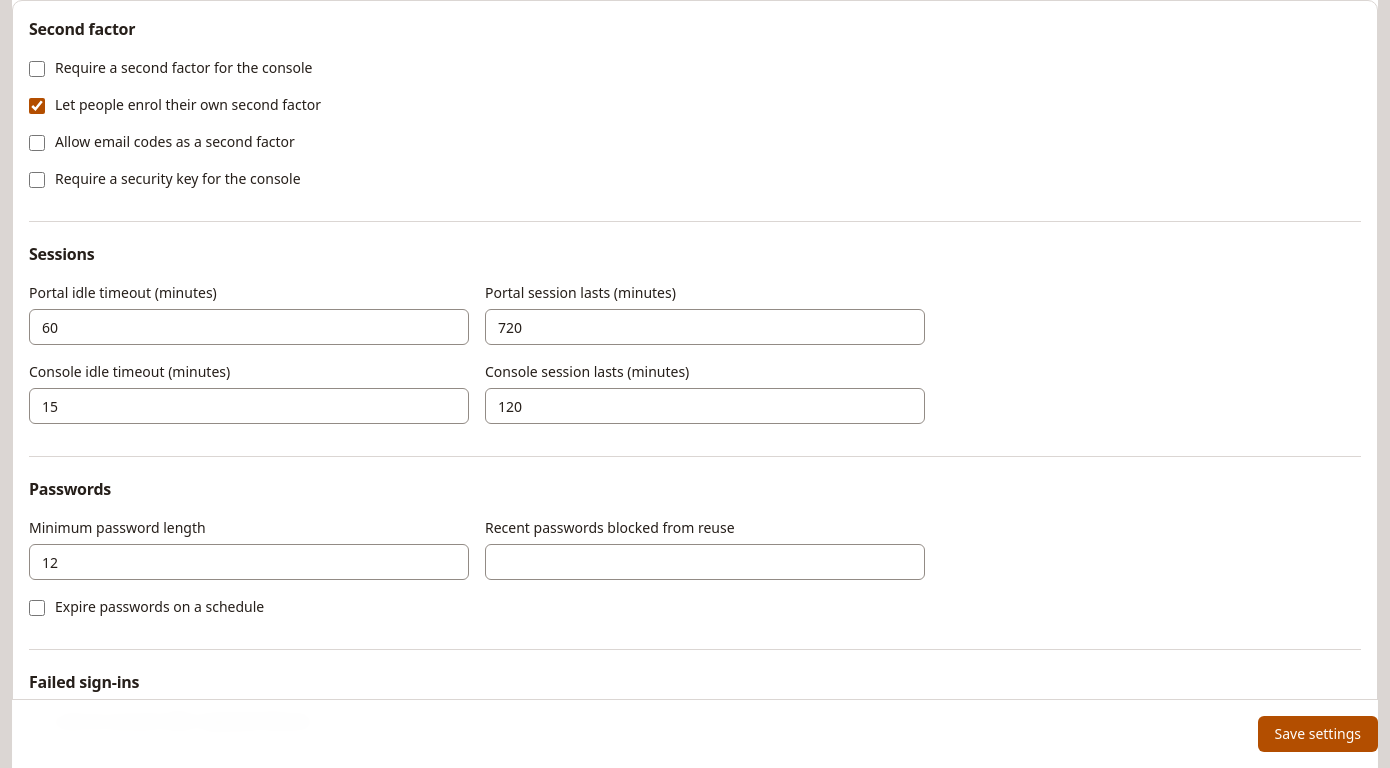
Test: SettingsSignInTab › warns before the pair that refuses every administrator without a factor
Click the checkbox labelled "Require a second factor for the console" at (37, 69), box left=29, top=61, right=45, bottom=77
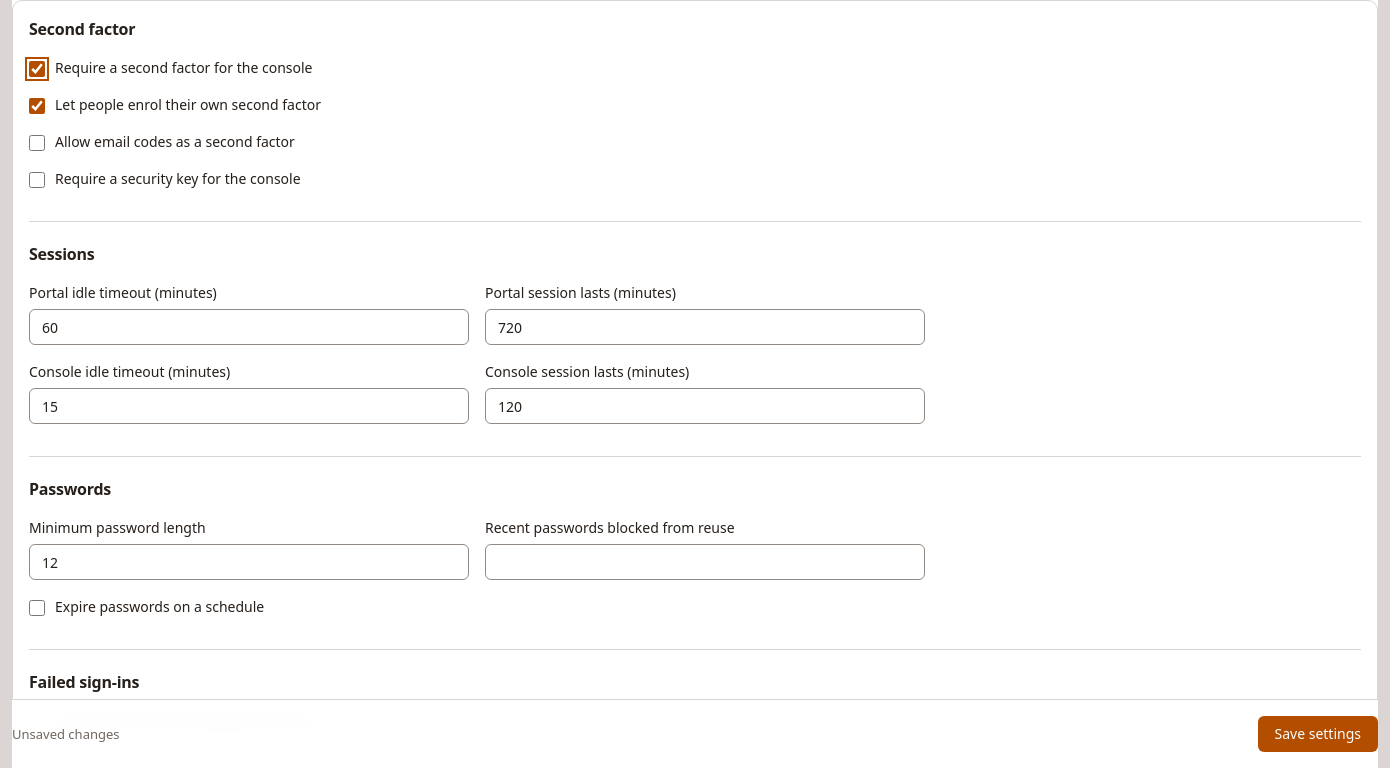
Click the checkbox labelled "Let people enrol their own second factor" at (37, 106), box left=29, top=98, right=45, bottom=114
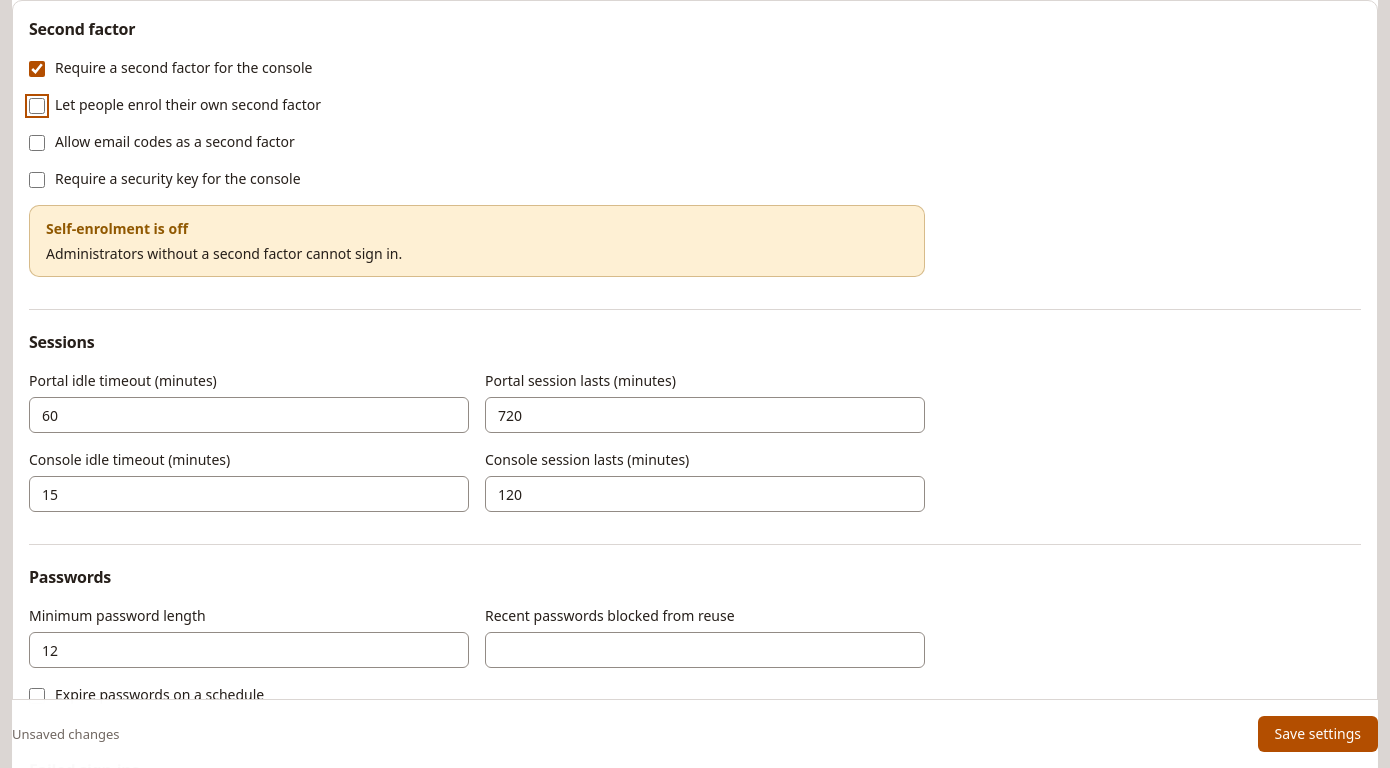
Now the text "Self-enrolment is off" is shown, box left=46, top=219, right=188, bottom=238
